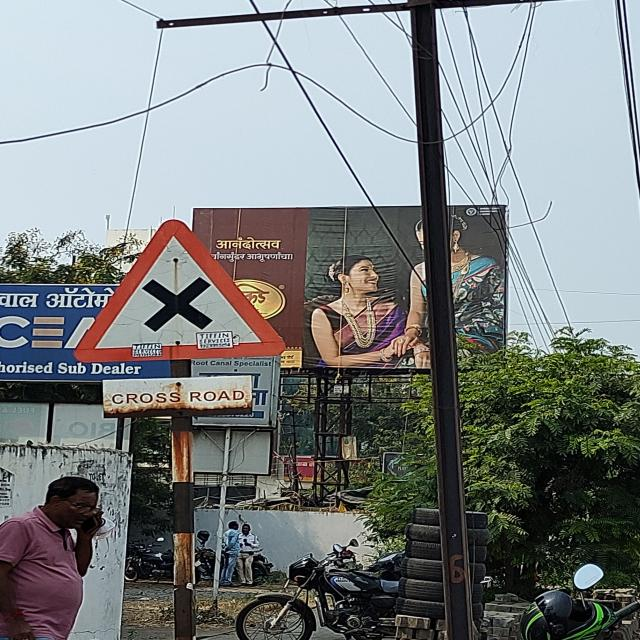CROSS_ROAD: (70, 218, 287, 362)
